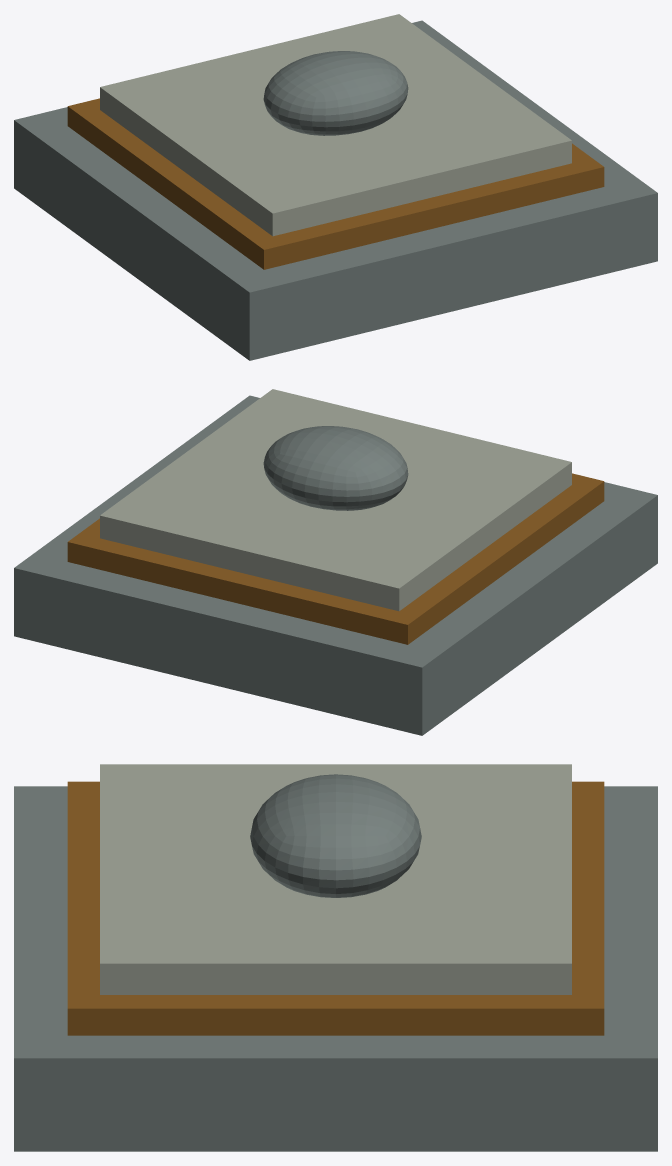
The model's file is MOV_PRESS_ROCK_02.obj.
3 renders of one model, top to bottom at view 1: azimuth 30°, elevation 25°; view 2: azimuth 150°, elevation 25°; view 3: azimuth 270°, elevation 25°, orthographic. The views are drawn at different scales.
Parts seen in each view (by area): view 1: Part_0, Part_2, Part_1, Part_3; view 2: Part_0, Part_2, Part_1, Part_3; view 3: Part_0, Part_2, Part_1, Part_3.
Part boxes in pixels (x1,y1,x2,y2): Part_0: [14, 20, 657, 360]; Part_2: [100, 14, 571, 236]; Part_1: [67, 98, 604, 269]; Part_3: [263, 51, 408, 135]; Part_0: [14, 395, 657, 735]; Part_2: [100, 389, 571, 611]; Part_1: [67, 473, 604, 644]; Part_3: [263, 426, 408, 510]; Part_0: [14, 786, 657, 1151]; Part_2: [100, 764, 571, 994]; Part_1: [67, 781, 604, 1035]; Part_3: [250, 774, 421, 897].
Size of the model in its own units: 1.5 by 0.575 by 1.5.
